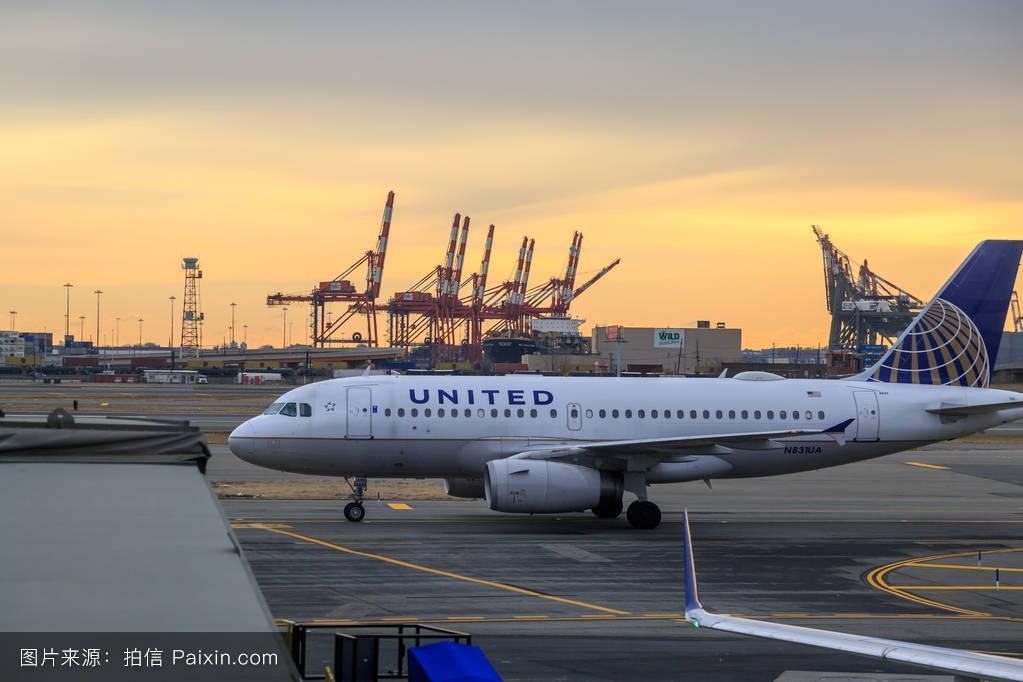airplane: (227, 238, 1023, 524)
